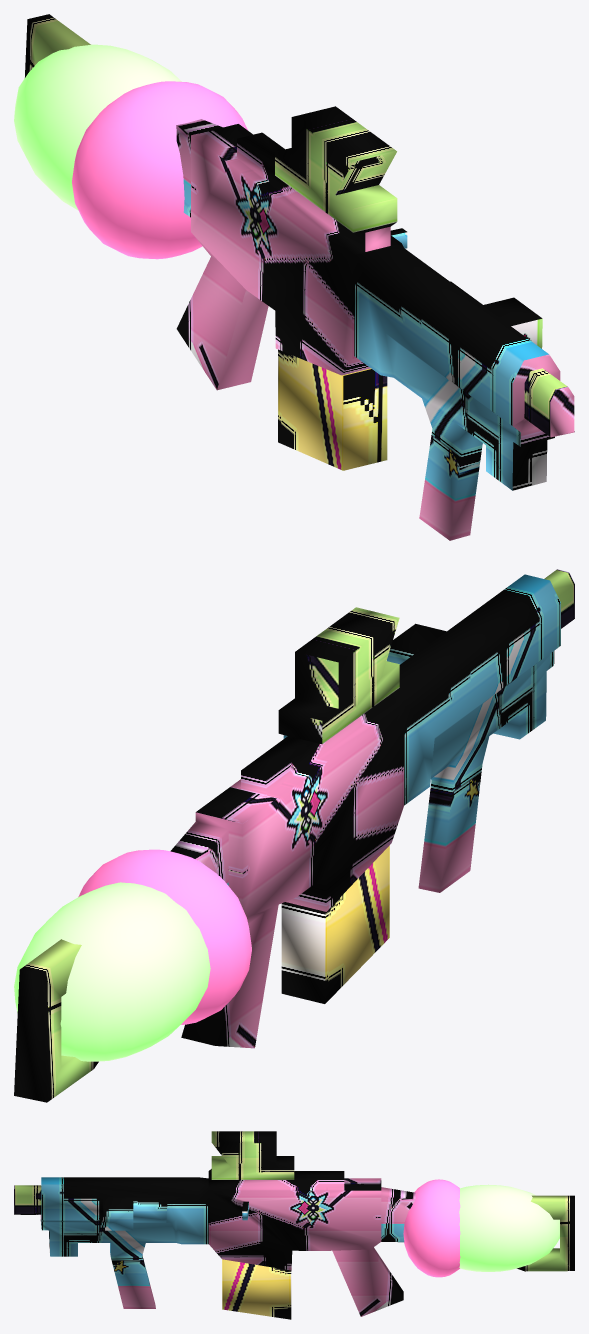
File: w20_hh_powerpuff.glb
3 renders of one model, top to bottom at view 1: azimuth 30°, elevation 25°; view 2: azimuth 150°, elevation 25°; view 3: azimuth 270°, elevation 25°, orthographic. The views are drawn at different scales.
Visible parts, largest first — view 1: Trispread, PinkPowerCradle, GreenPowerPod, Trispread01; view 2: Trispread, GreenPowerPod, Trispread01, PinkPowerCradle; view 3: Trispread, GreenPowerPod, PinkPowerCradle, Trispread01.
Boxes of the visible parts, x1,y1,x2,y2 form: Trispread: [25, 14, 574, 540]; PinkPowerCradle: [72, 81, 247, 259]; GreenPowerPod: [14, 44, 181, 210]; Trispread01: [278, 349, 387, 470]; Trispread: [14, 569, 574, 1102]; GreenPowerPod: [14, 882, 210, 1061]; Trispread01: [281, 846, 389, 1003]; PinkPowerCradle: [78, 849, 251, 1024]; Trispread: [14, 1131, 574, 1316]; GreenPowerPod: [459, 1184, 559, 1271]; PinkPowerCradle: [403, 1179, 460, 1277]; Trispread01: [222, 1259, 291, 1319].
Size of the model in its own units: 6.7 by 12.67 by 36.39.
Materials: 3 (1 with a texture image).
